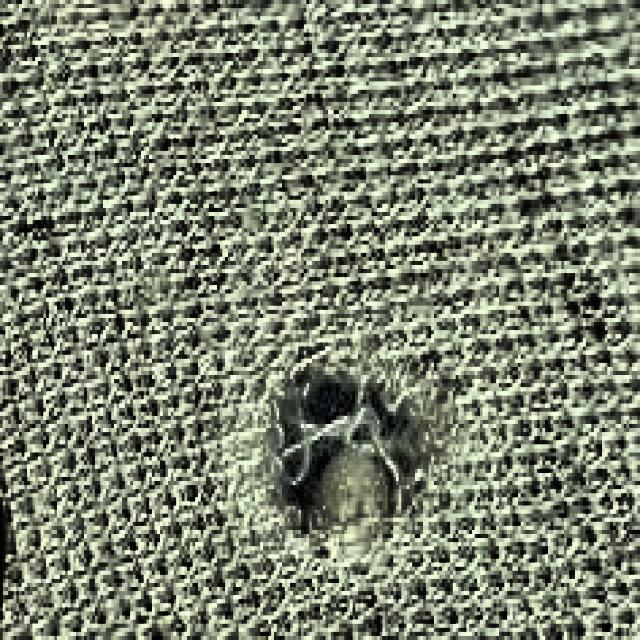cut: (223, 327, 442, 576)
